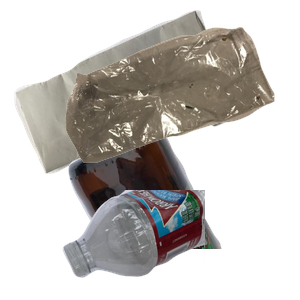glass: (66, 120, 300, 300)
paper: (12, 10, 240, 176)
plastic: (60, 190, 300, 280)
trash: (63, 24, 300, 179)
